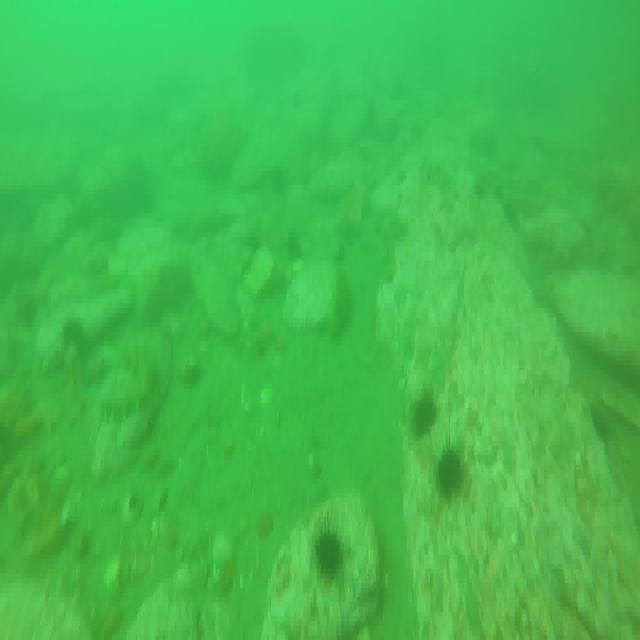echinus: (437, 446, 466, 497), (316, 530, 344, 578), (410, 389, 438, 435)
holothurian: (96, 354, 156, 422)
